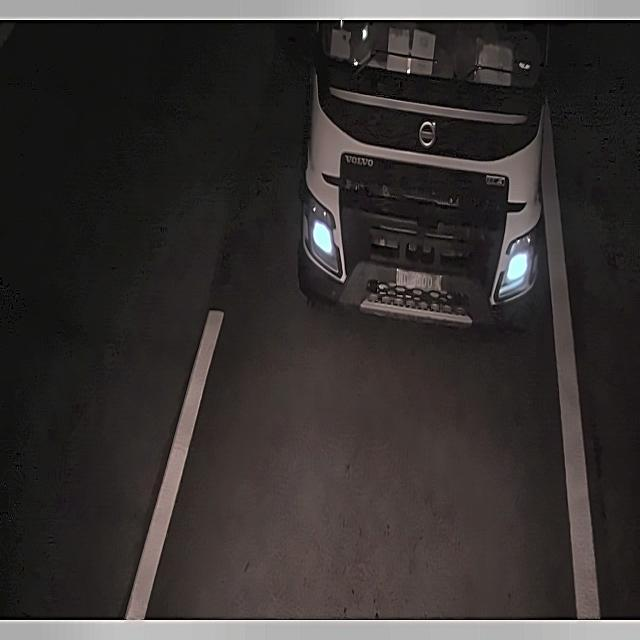car: (391, 264, 450, 304)
